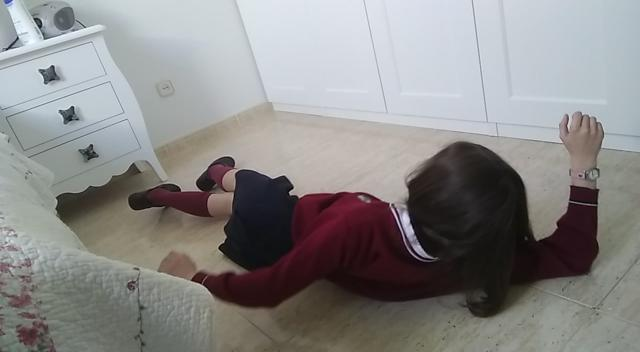FallenBody: (113, 107, 624, 320)
